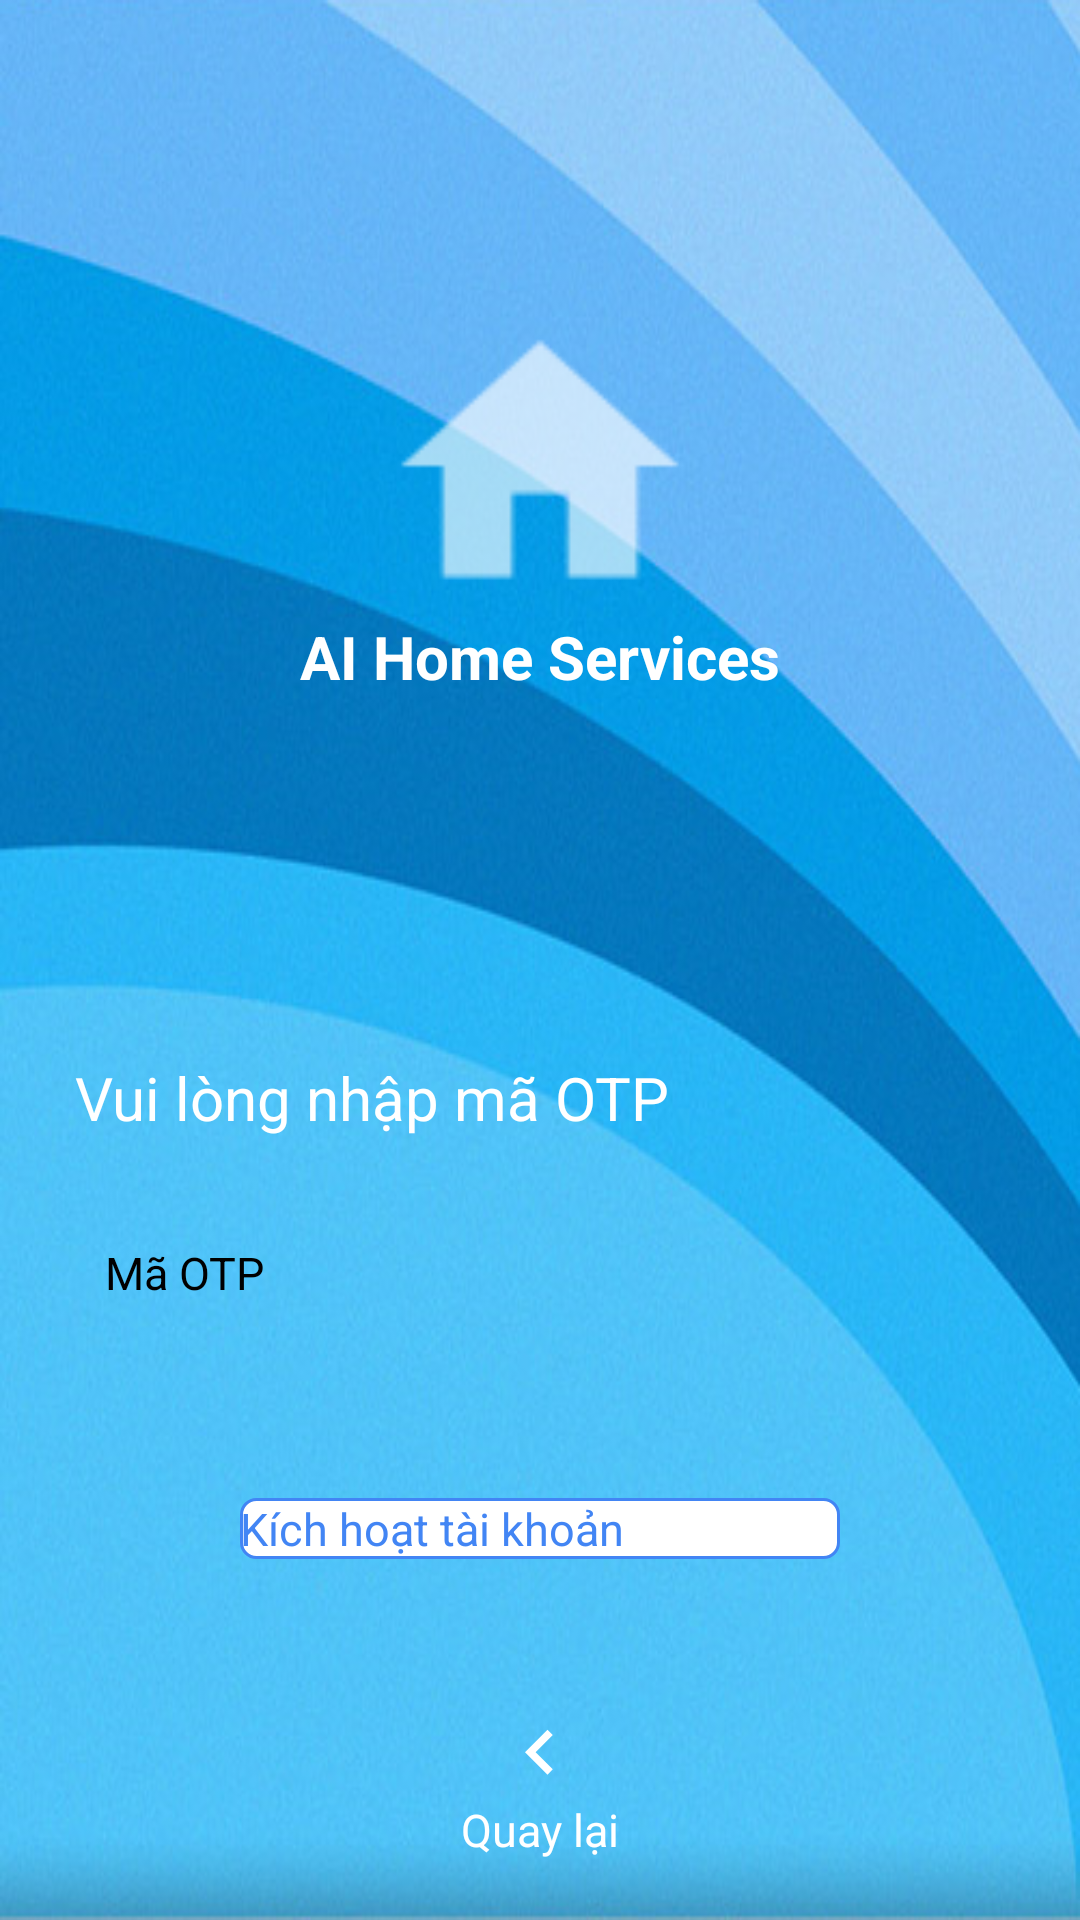

Point at icon controls on the screen. Image size 1080 x 1920, points as (x,y).
arrow left: (539,1752)
